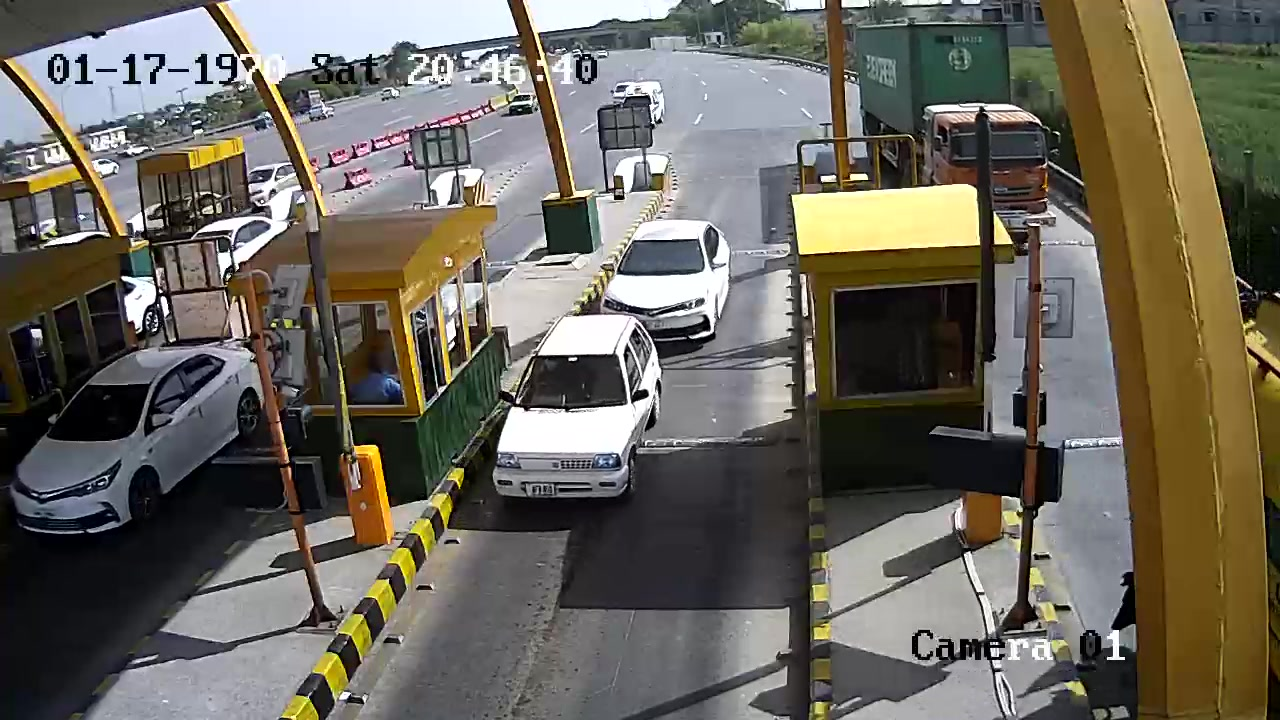F1: (486, 310, 659, 507)
